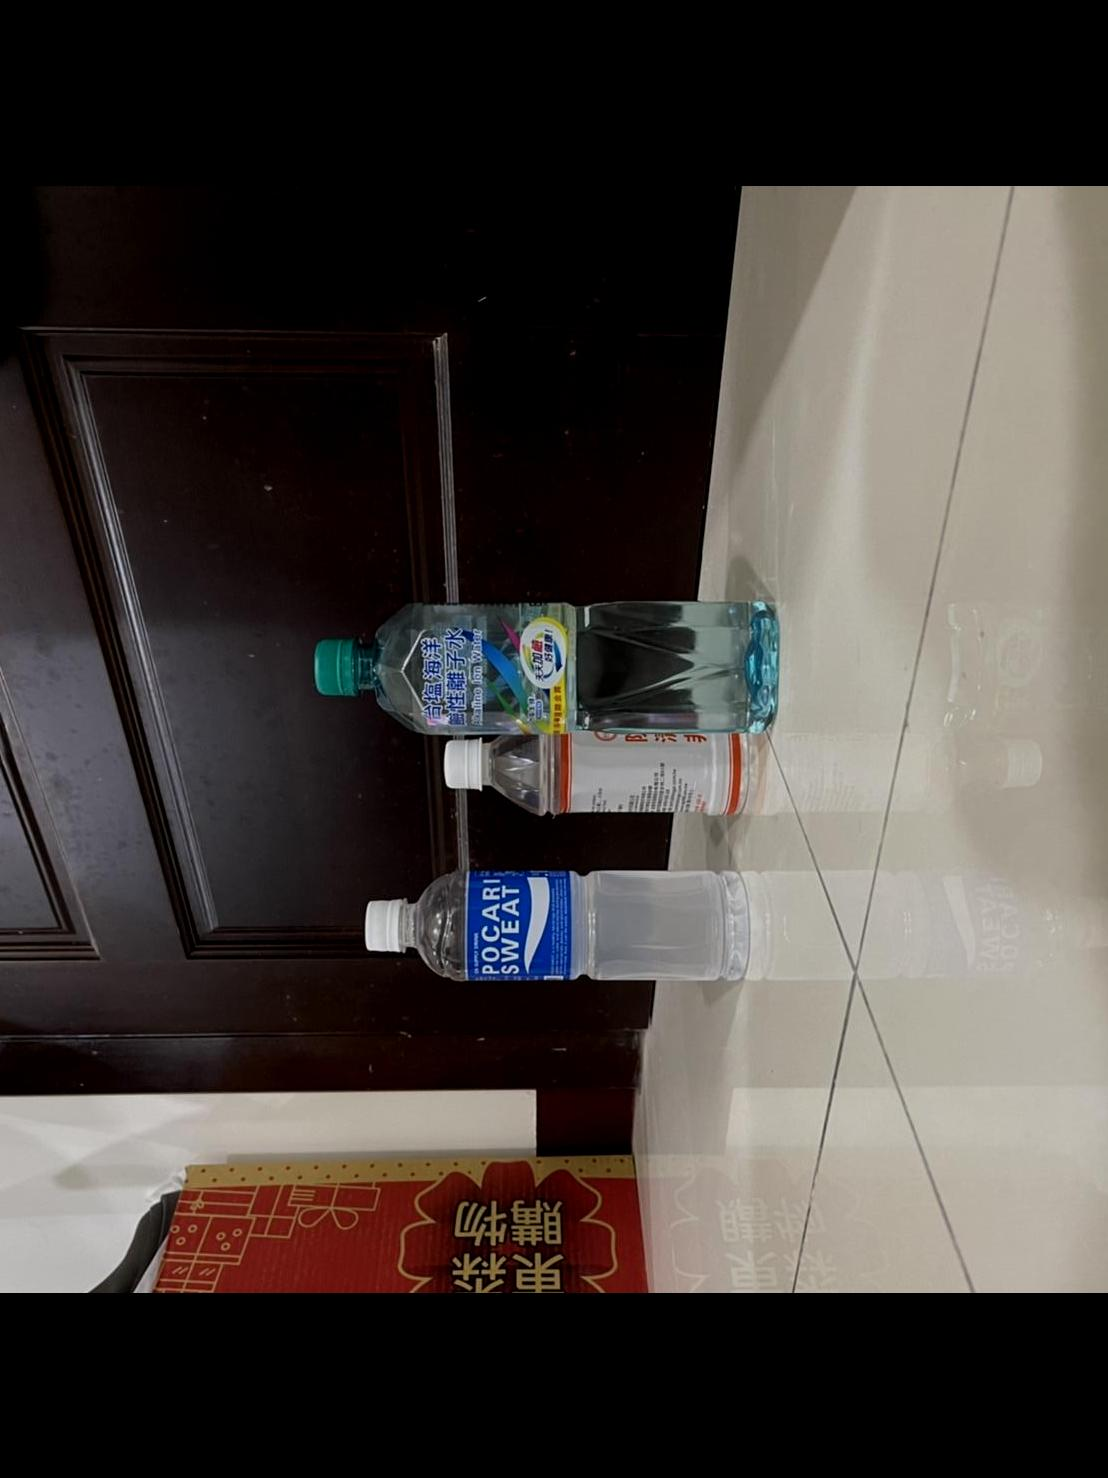bottle: (310, 594, 787, 742), (357, 872, 753, 985), (446, 737, 747, 815)
